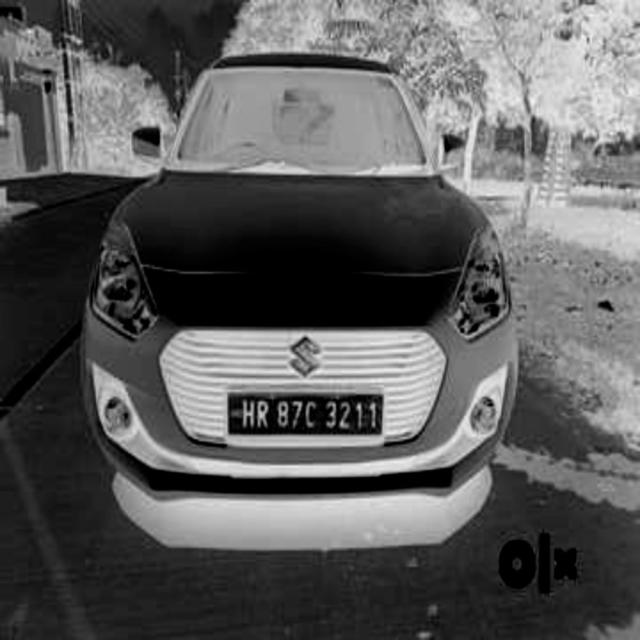1: (367, 397, 380, 433), (355, 401, 364, 429)
2: (339, 400, 353, 430)
3: (325, 399, 338, 428)
7: (292, 400, 303, 430)
8: (278, 399, 288, 429)
C: (304, 400, 318, 430)
H: (242, 397, 254, 427)
IND: (229, 397, 244, 422)
Indian_registered: (228, 394, 382, 435)
R: (257, 398, 272, 429)
